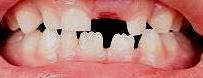Hypodontia: (87, 16, 128, 31)
